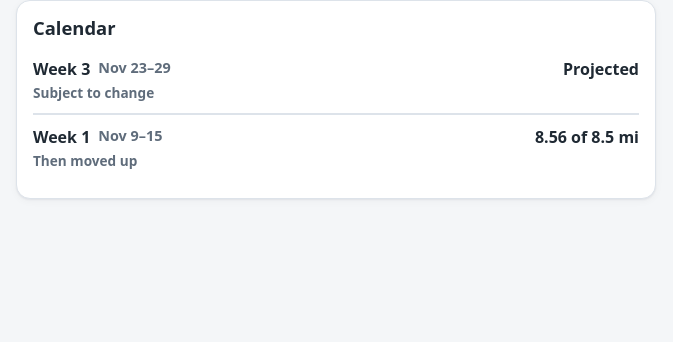
Test case: CalendarCard › keeps a finished week closed until you tap it, then shows its strip
Click the button "Week 1 Nov 9–15 8.56 of 8.5 mi Then moved up": x=62, y=137 [33,114,639,182]
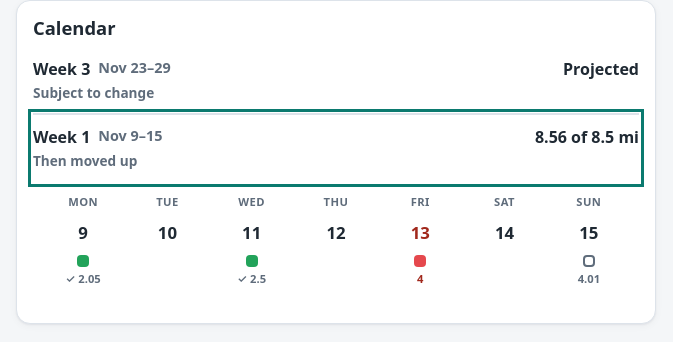
Expected: the element named "Week 1" is shown, [33,182,639,300]
